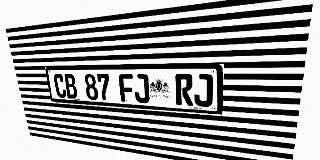7: (96, 74, 112, 101)
8: (83, 74, 99, 100)
B: (63, 74, 78, 99)
C: (53, 74, 67, 98)
F: (118, 74, 135, 102)
J: (194, 74, 213, 107), (133, 74, 150, 103)
R: (175, 74, 193, 106)
